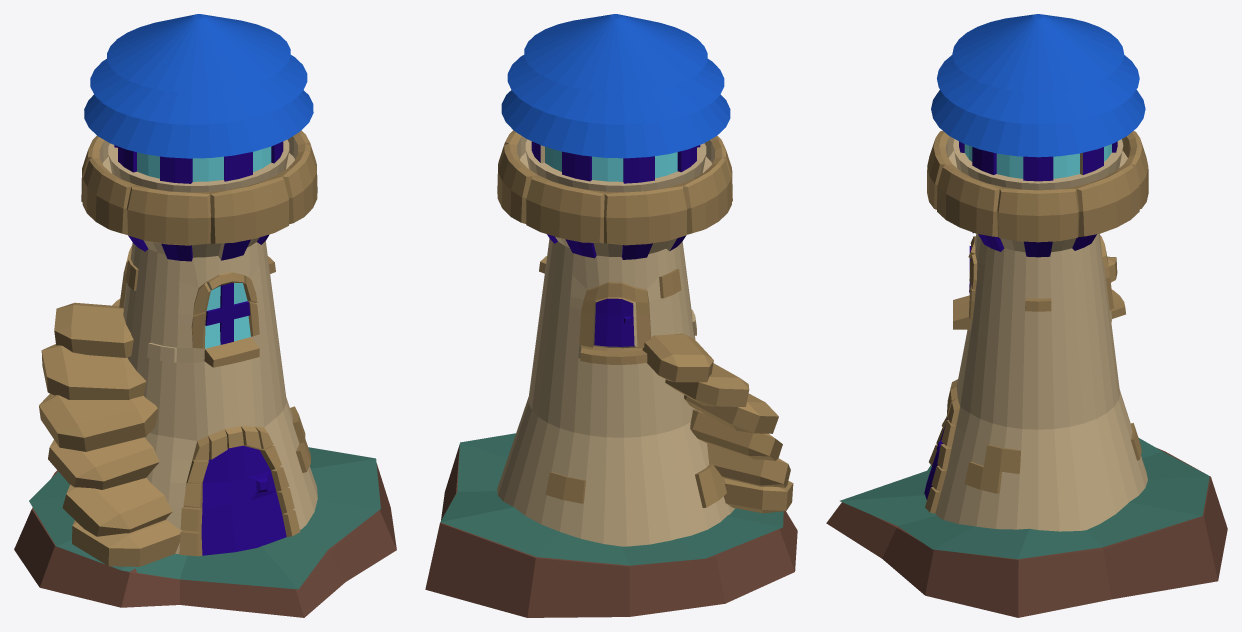
The model's file is SuKule2.fbx.
3 views of the same model, side by side, from view 1: azimuth 30°, elevation 25°; view 2: azimuth 150°, elevation 25°; view 3: azimuth 270°, elevation 25° (orthographic). The views are drawn at different scales.
Visible parts, largest first — view 1: Cylinder.004, Cube.002, Circle.004, cımen.003; view 2: Cylinder.004, Circle.004, Cube.002, cımen.003; view 3: Cylinder.004, Circle.004, cımen.003.
Boxes of the visible parts, x1,y1,x2,y2 form: Cylinder.004: (81,14,317,556); Cube.002: (39,302,181,566); Circle.004: (14,463,396,617); cımen.003: (29,447,380,589); Cylinder.004: (497,14,734,546); Circle.004: (425,445,797,617); Cube.002: (642,333,793,513); cımen.003: (440,433,783,565); Cylinder.004: (924,14,1148,531); Circle.004: (826,448,1227,617); cımen.003: (840,438,1209,559).
Size of the model in its own units: 488 by 705 by 496.
